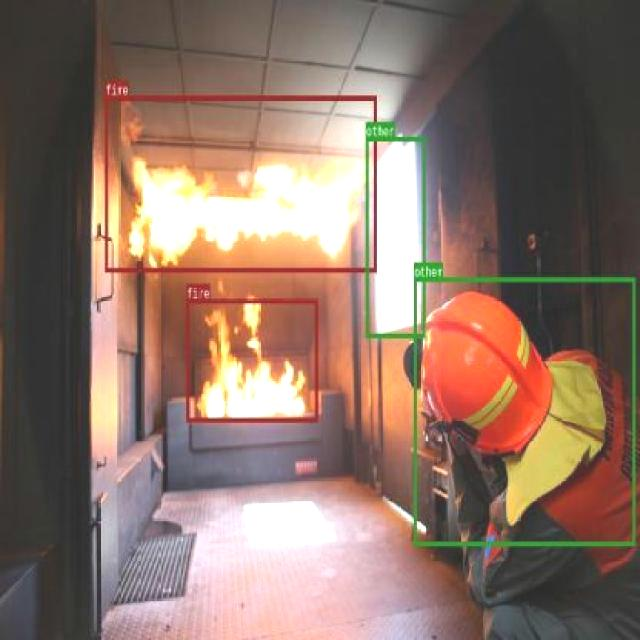fire: (104, 95, 376, 272), (185, 298, 318, 422)
